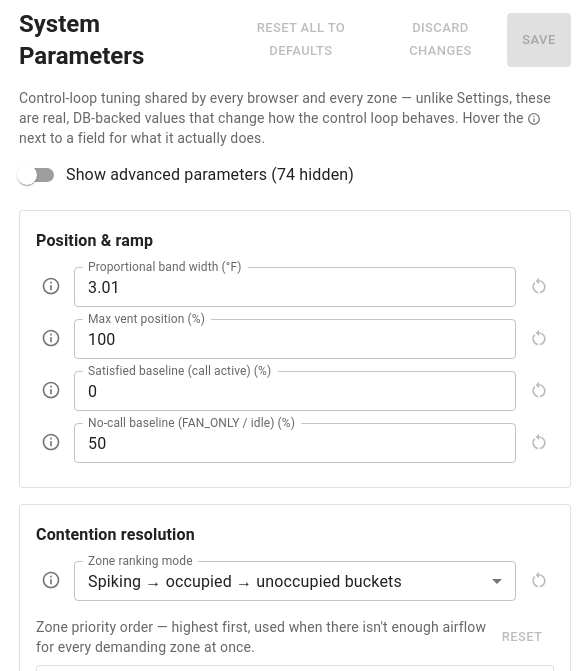
Test: SystemParametersPage › Show advanced parameters reveals advanced-only fields and groups, and persists the choice
Expected: the text "Show advanced parameters (74 hidden)" is shown, [66, 163, 354, 187]
Click the switch at (186, 175), box [17, 165, 354, 185]
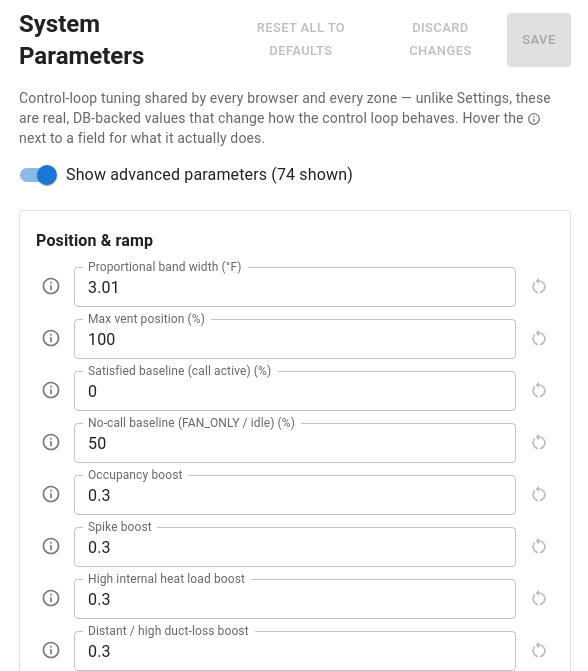
Result: the text "Show advanced parameters (74 shown)" is shown at [66, 163, 353, 187]
